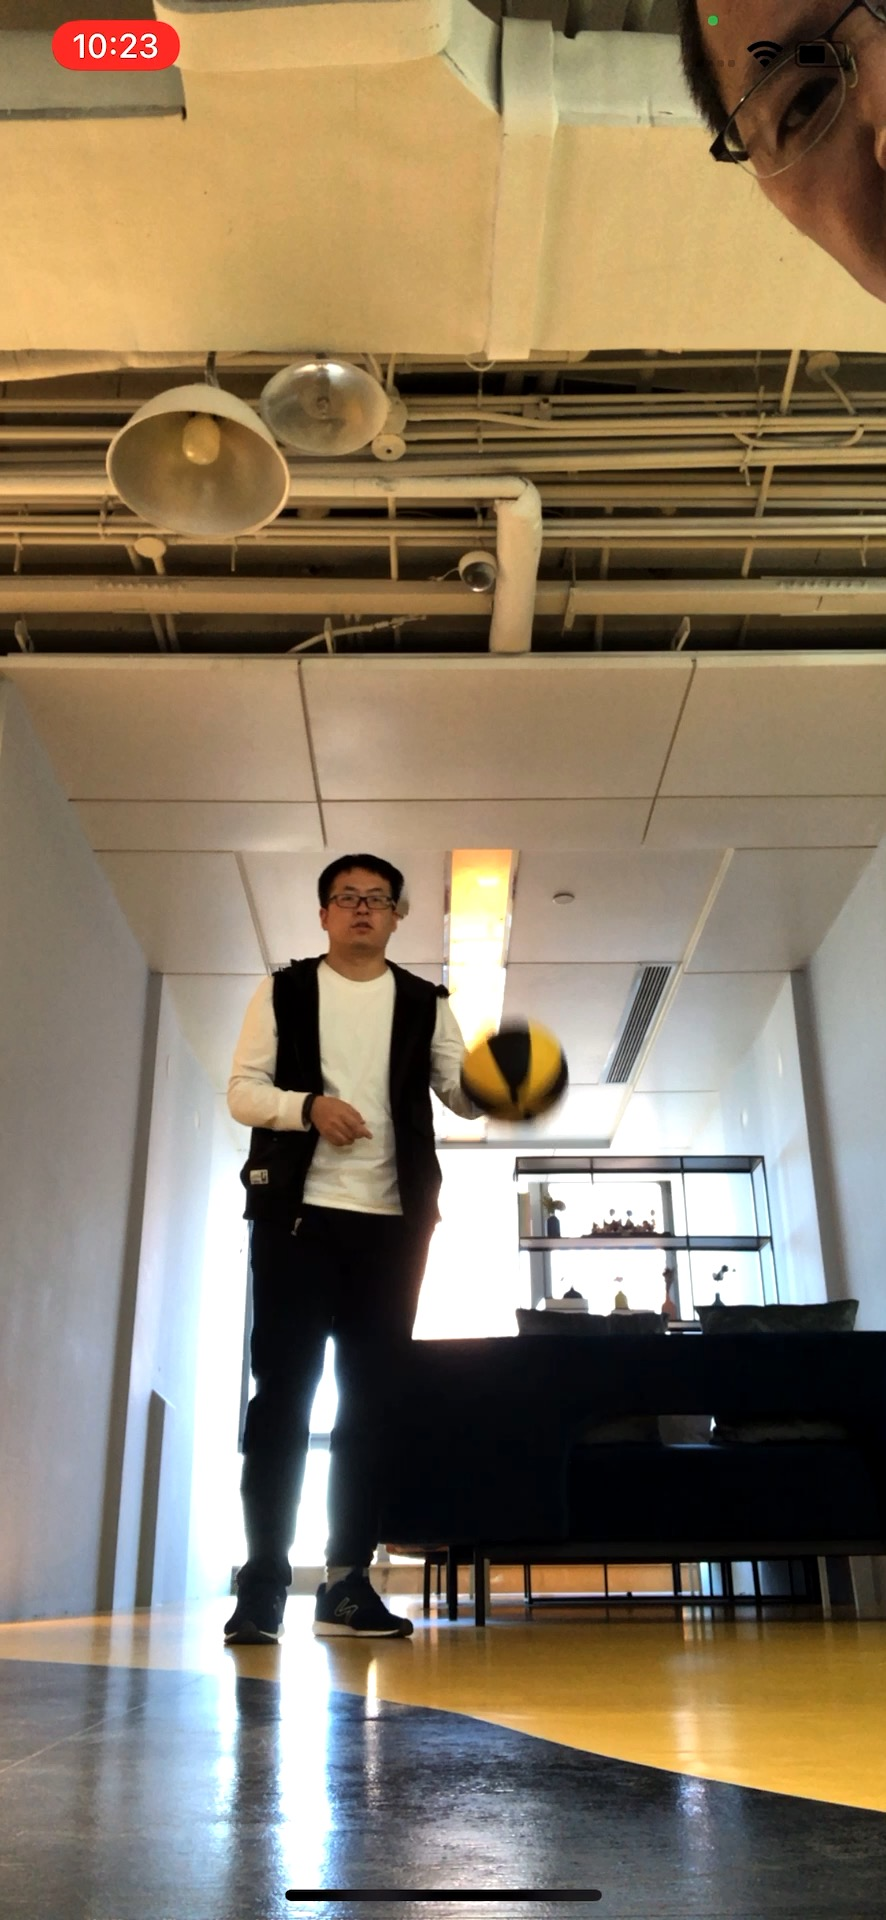ball: (459, 1025, 576, 1120)
